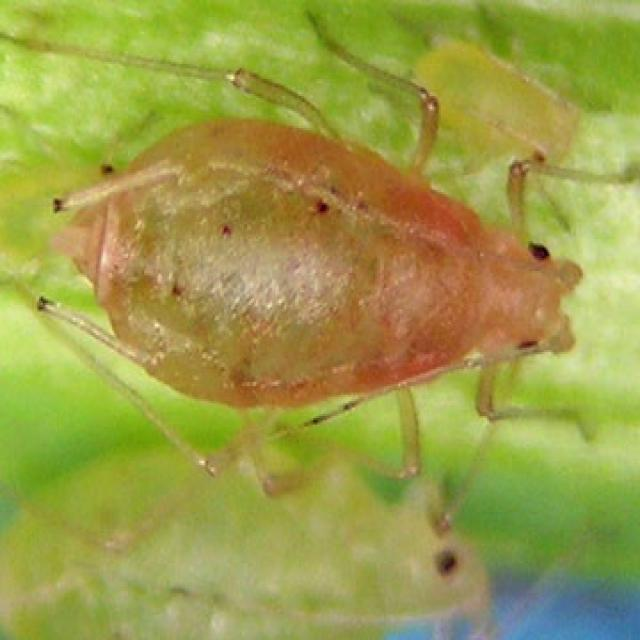Aphid-Grown-: (9, 18, 612, 497)
